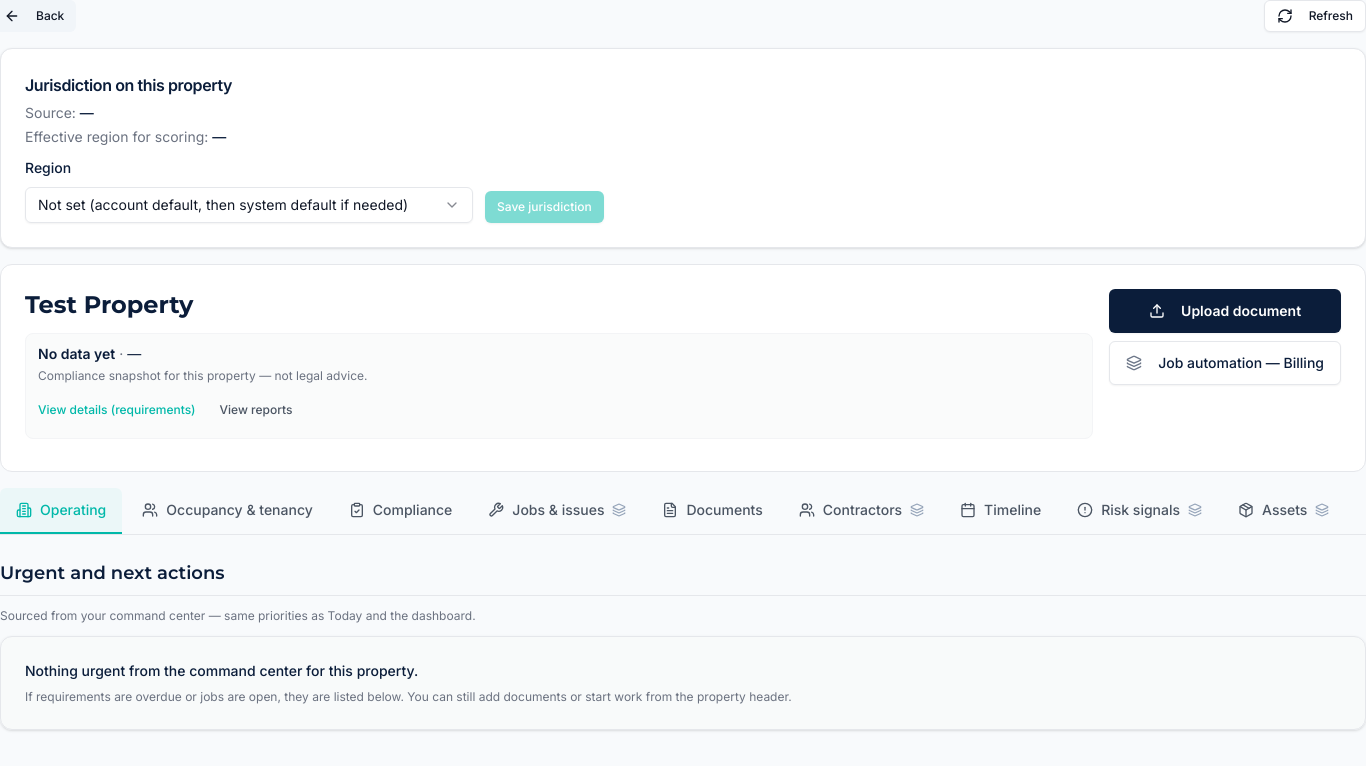
Scenario: PropertyDetailPage presentation authority alignment › document-backed only (England) — shows governed labels and API counts without frontend inference
The width and height of the screenshot is (1366, 766).
Later steps or results of the test are not shown.
Click the button "Compliance": coordinates (401, 511) [333, 488, 468, 534]
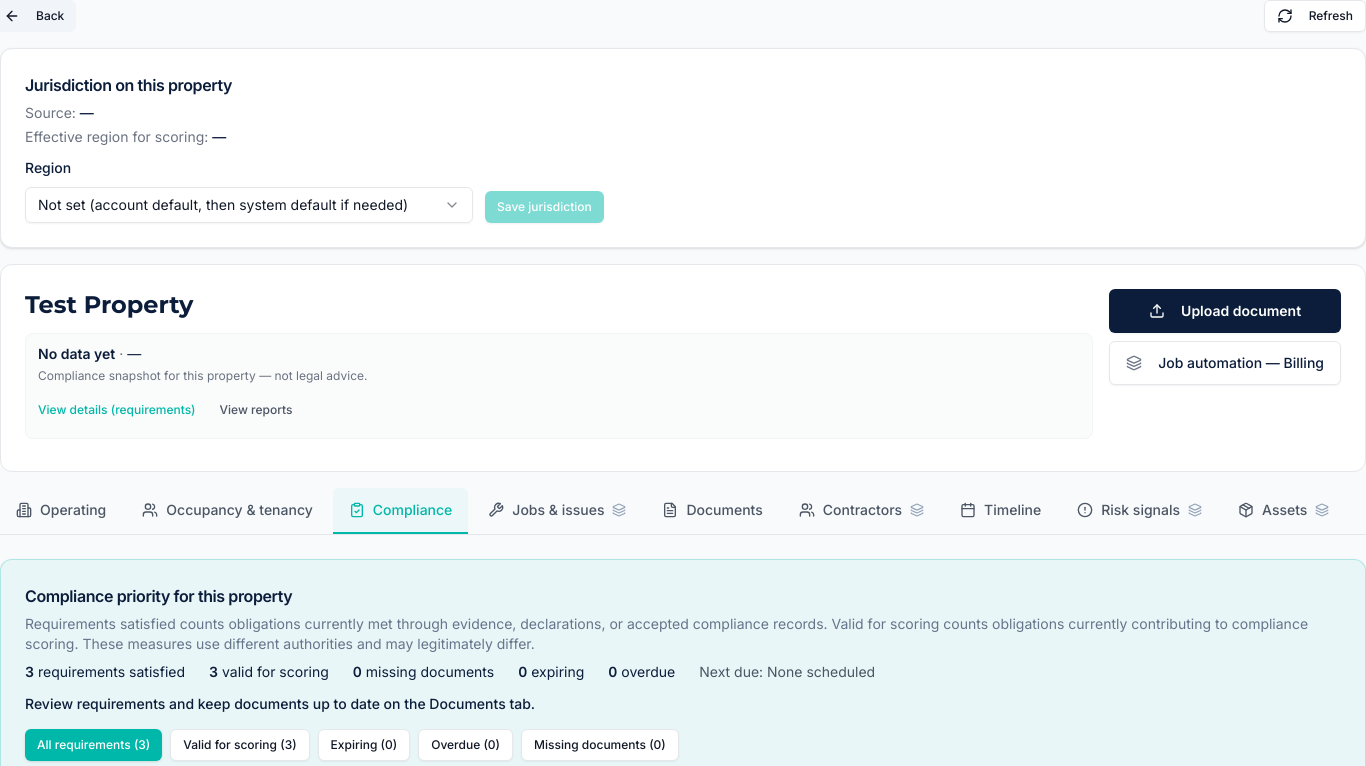
expect the button "Valid for scoring (3)" is shown: met, box [170, 729, 310, 761]
expect the element titled "Visible requirements with recorded evidence on file — your lifecycle completion count." shows "3": met, box [25, 663, 34, 680]
expect the text "may legitimately differ" is shown: met, box [25, 615, 1308, 652]
